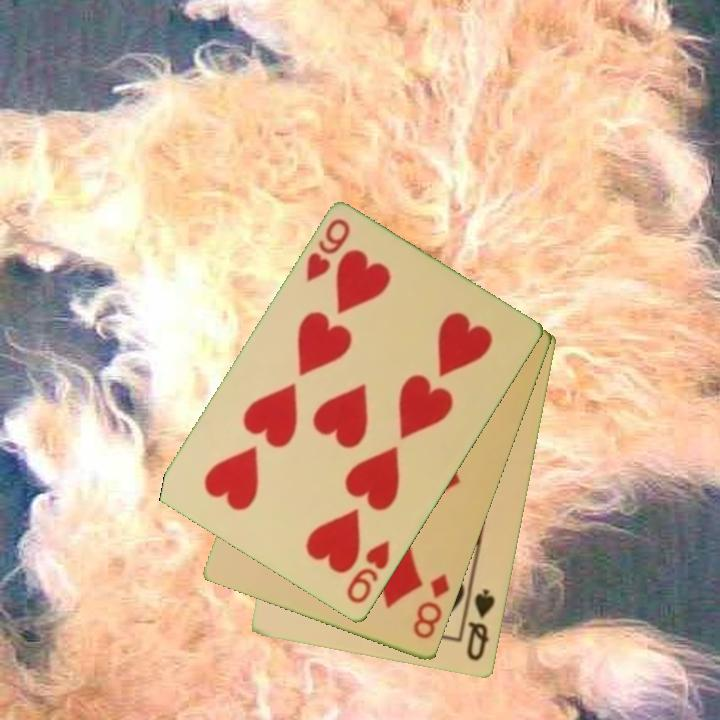8d: (410, 570, 453, 643)
9h: (302, 215, 354, 286), (343, 537, 393, 608)
Qs: (463, 586, 499, 664)
